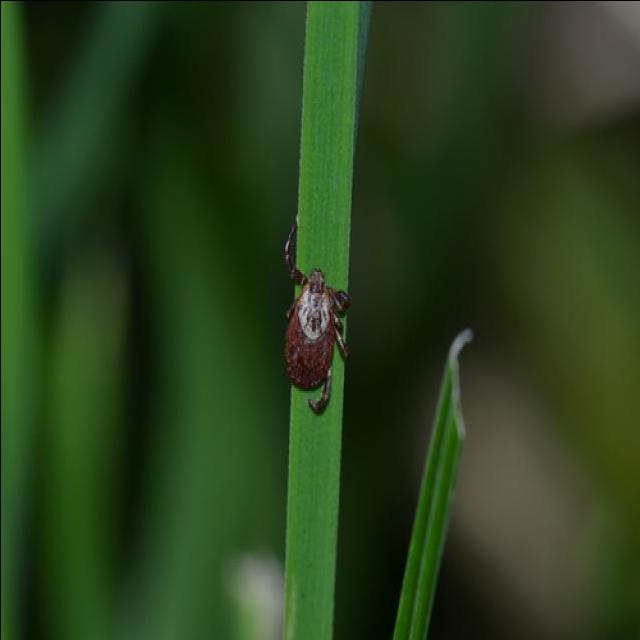Dermacentor Reticulatus-F: (283, 219, 349, 417)
